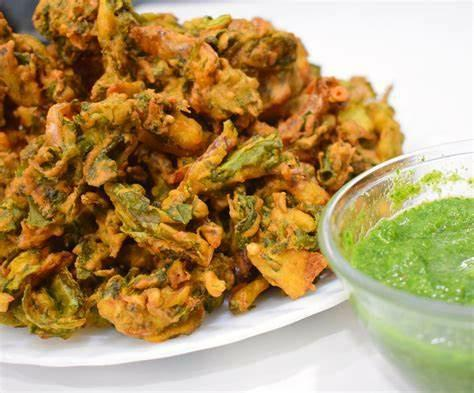GreenChutney: (356, 197, 474, 393)
OnionPakoda: (0, 0, 416, 341)
